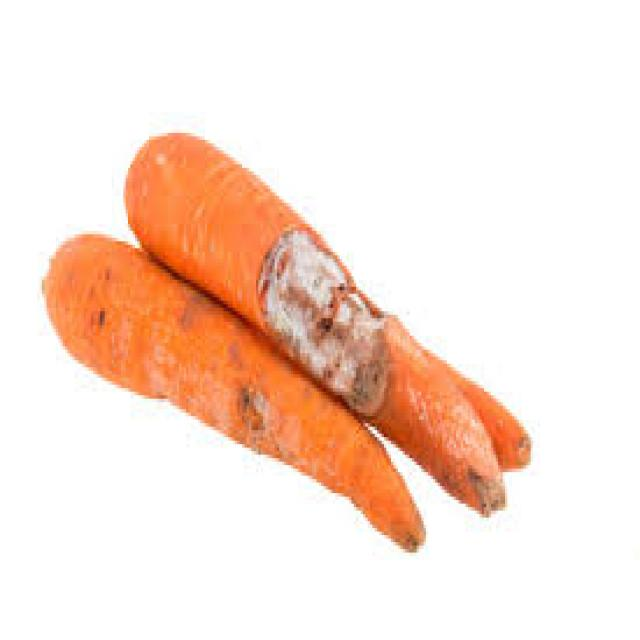Stale_Carrot: (129, 137, 530, 514), (44, 235, 423, 549)
